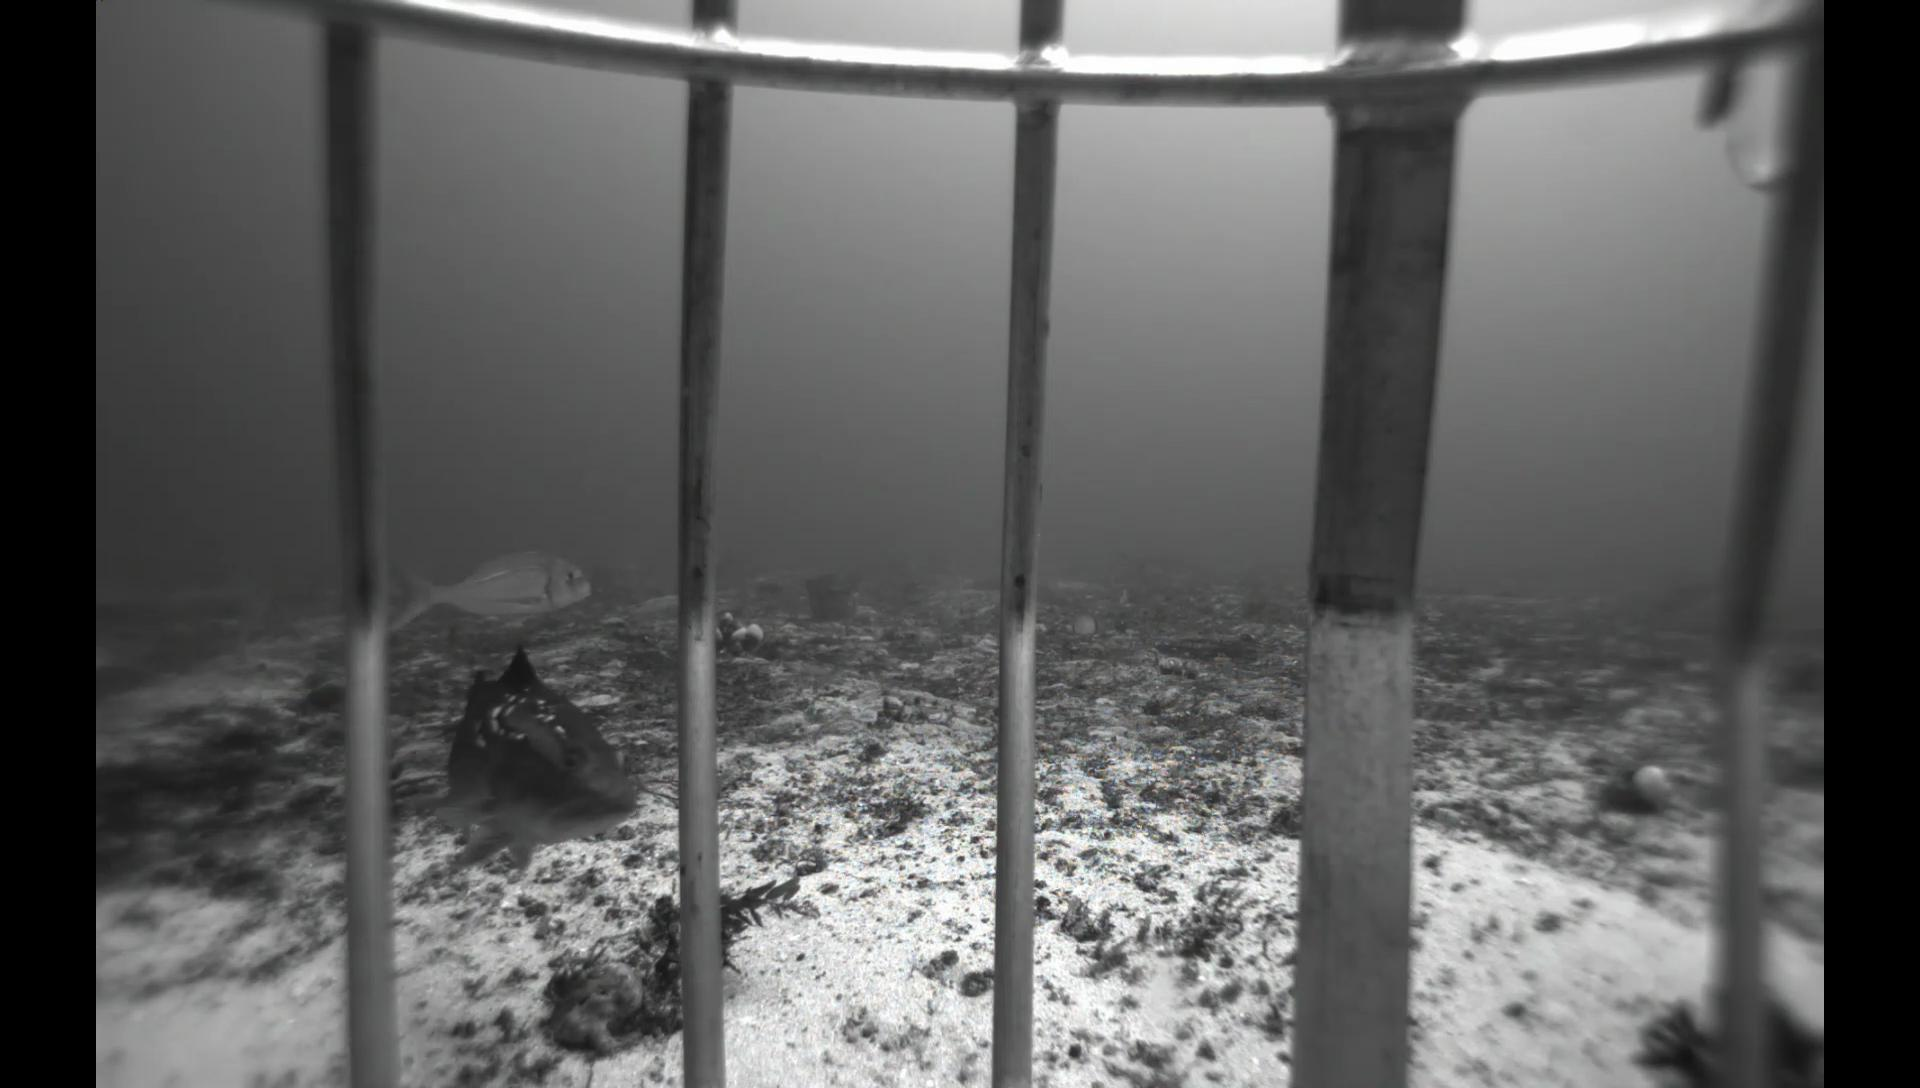CHAETODONOCELLATUS-170260307: (1062, 611, 1104, 640), (1112, 586, 1137, 611)
EPINEPHELUSMORIO-170021211: (407, 640, 647, 884)
HALICHOERESBIVITTATUS-170281202: (273, 663, 309, 682)
PAGRUSPAGRUS-170212302: (386, 538, 603, 644)
PRISTIGENYSALTA-170050401: (297, 680, 345, 719)
